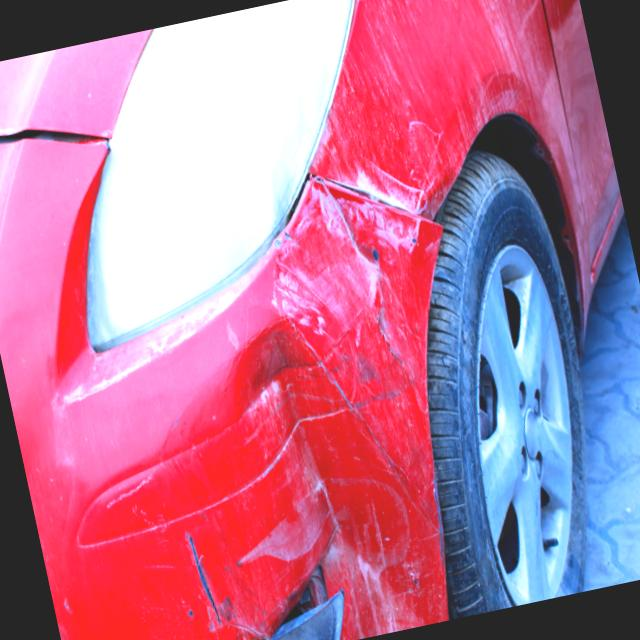Cabossage: (210, 317, 389, 599)
Dechirure: (232, 564, 342, 640), (320, 150, 412, 225)
Rayure: (190, 278, 463, 571), (265, 200, 473, 494), (73, 386, 220, 538), (322, 515, 438, 640), (160, 514, 240, 640)
